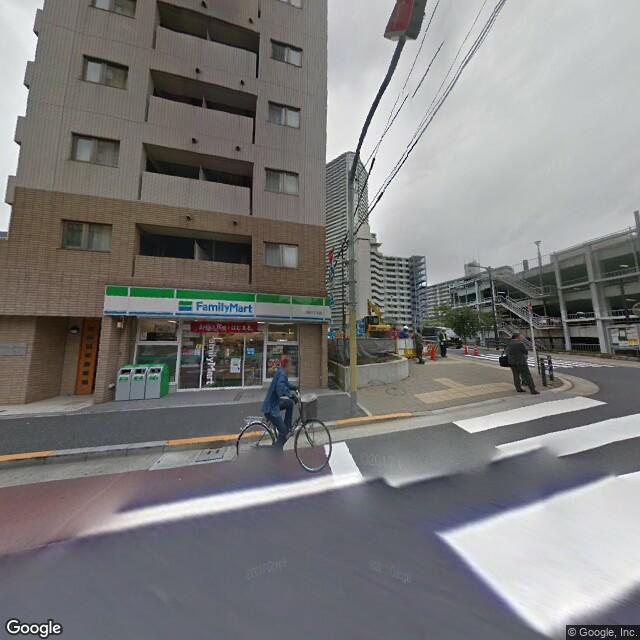family_mart: (102, 284, 330, 324), (173, 295, 255, 320)
